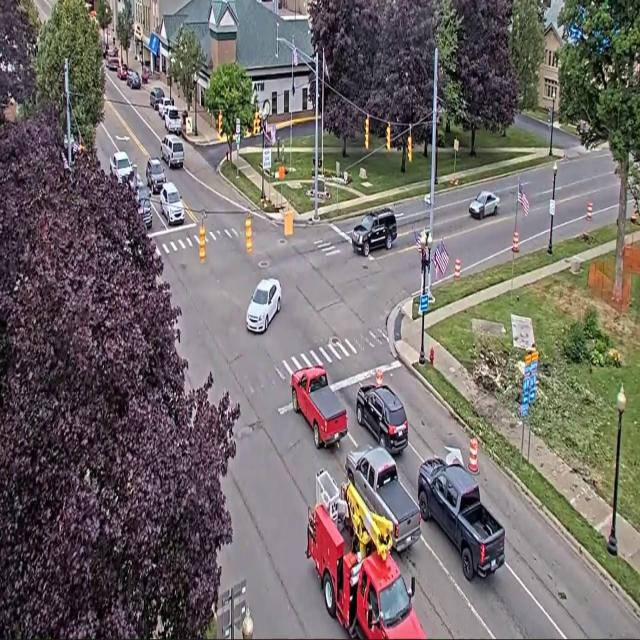car: (356, 384, 408, 454), (352, 208, 396, 256), (246, 278, 282, 332), (160, 183, 184, 225), (135, 177, 152, 229), (469, 191, 499, 219), (161, 135, 184, 168), (110, 152, 132, 183), (146, 158, 165, 193), (165, 106, 181, 135), (149, 87, 165, 110), (158, 96, 173, 119), (127, 71, 141, 88), (107, 53, 119, 71), (118, 64, 128, 79), (424, 193, 430, 206)
traffic signal: (245, 214, 253, 253), (199, 223, 206, 262), (364, 116, 369, 149), (253, 112, 260, 135), (407, 134, 412, 162), (386, 123, 390, 151), (548, 107, 554, 125), (218, 112, 222, 135)
truck: (306, 471, 426, 639), (418, 457, 504, 581), (346, 447, 420, 552), (291, 367, 347, 448)
